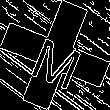M_N: (24, 23, 86, 87)
